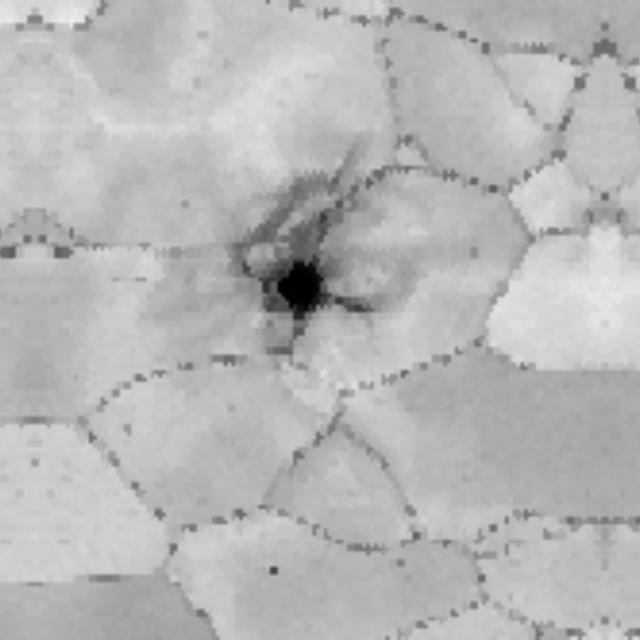good_void: (227, 135, 388, 377), (49, 240, 79, 264), (0, 240, 22, 264), (265, 560, 281, 578), (468, 242, 481, 263), (396, 554, 406, 569)
